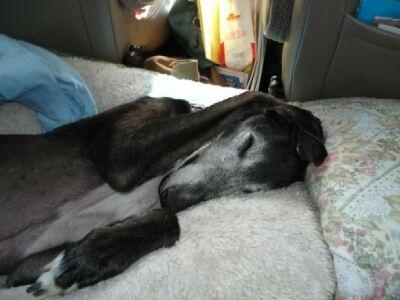dog: (1, 90, 327, 299)
